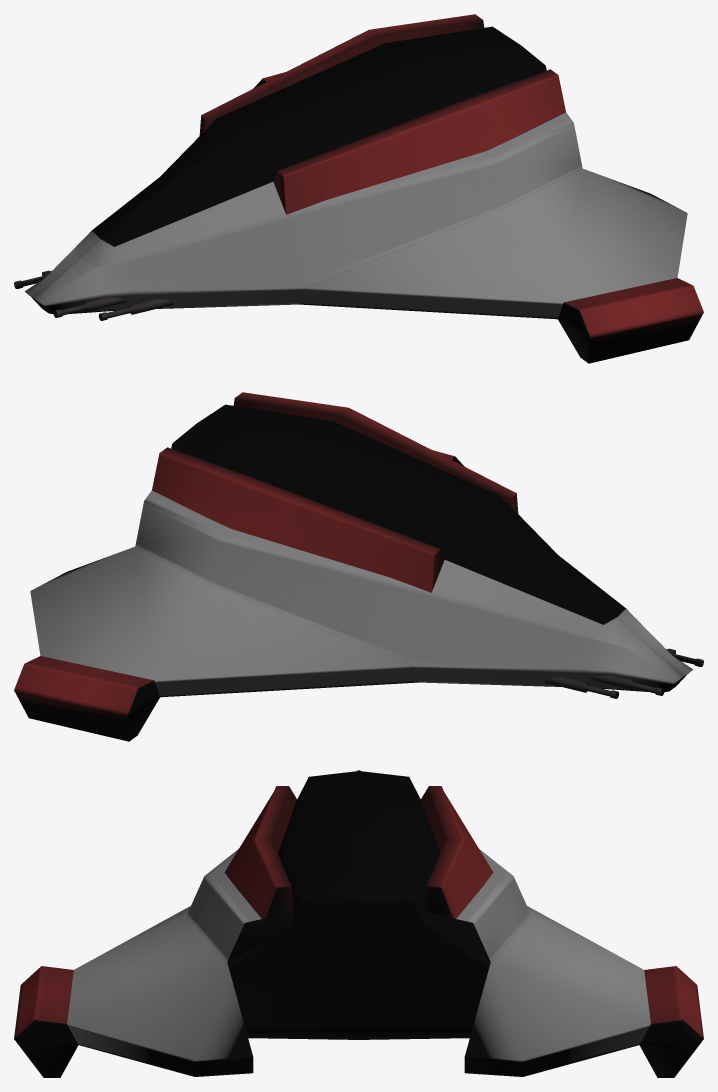
File: Hero_Ship.fbx
3 renders of one model, top to bottom at view 1: azimuth 30°, elevation 25°; view 2: azimuth 150°, elevation 25°; view 3: azimuth 270°, elevation 25°, orthographic.
Visible parts, largest first — view 1: Hero_Ship; view 2: Hero_Ship; view 3: Hero_Ship.
Boxes of the visible parts, x1,y1,x2,y2 form: Hero_Ship: (14, 14, 703, 363); Hero_Ship: (14, 392, 703, 741); Hero_Ship: (14, 770, 703, 1077).
Size of the model in its own units: 235 by 73.76 by 245.
Materials: 1 (1 with a texture image).
